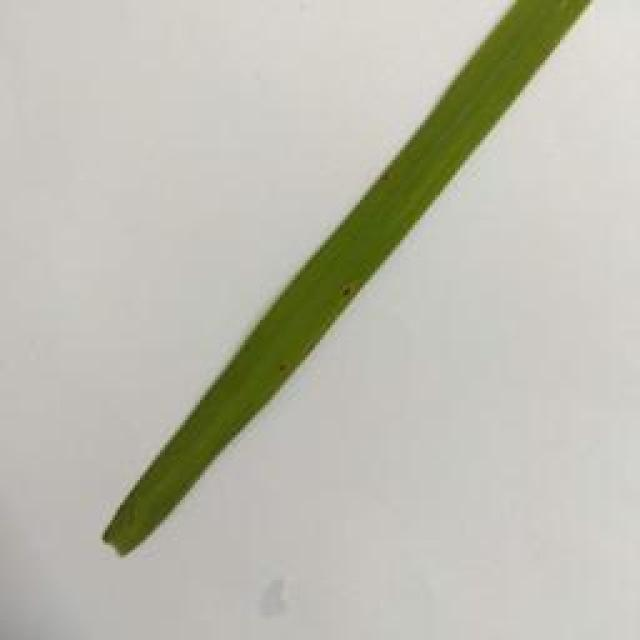Brown_Spot: (334, 278, 358, 302), (373, 165, 398, 176), (277, 361, 289, 376)
